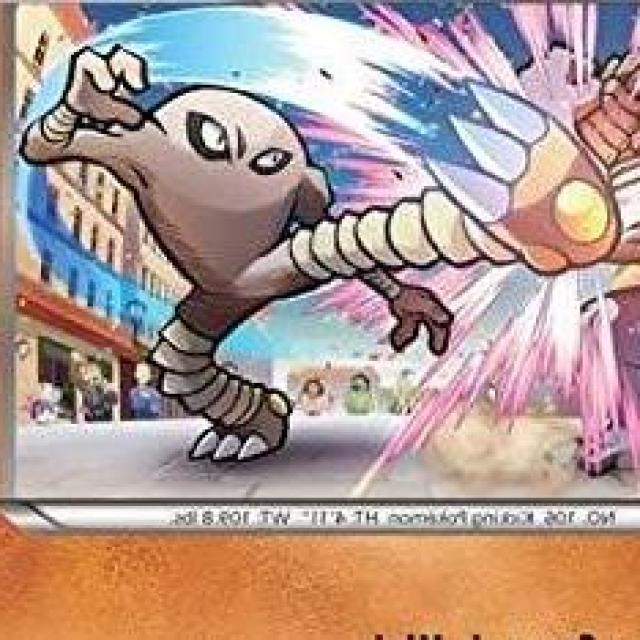Hitmonlee: (42, 80, 446, 457)
